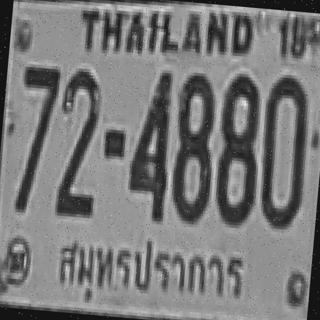N00: (255, 72, 310, 229)
N02: (52, 68, 106, 215)
N04: (124, 66, 174, 220)
N07: (12, 63, 60, 206)
N08: (211, 71, 264, 225), (167, 71, 218, 222)
P57: (47, 219, 254, 318)
